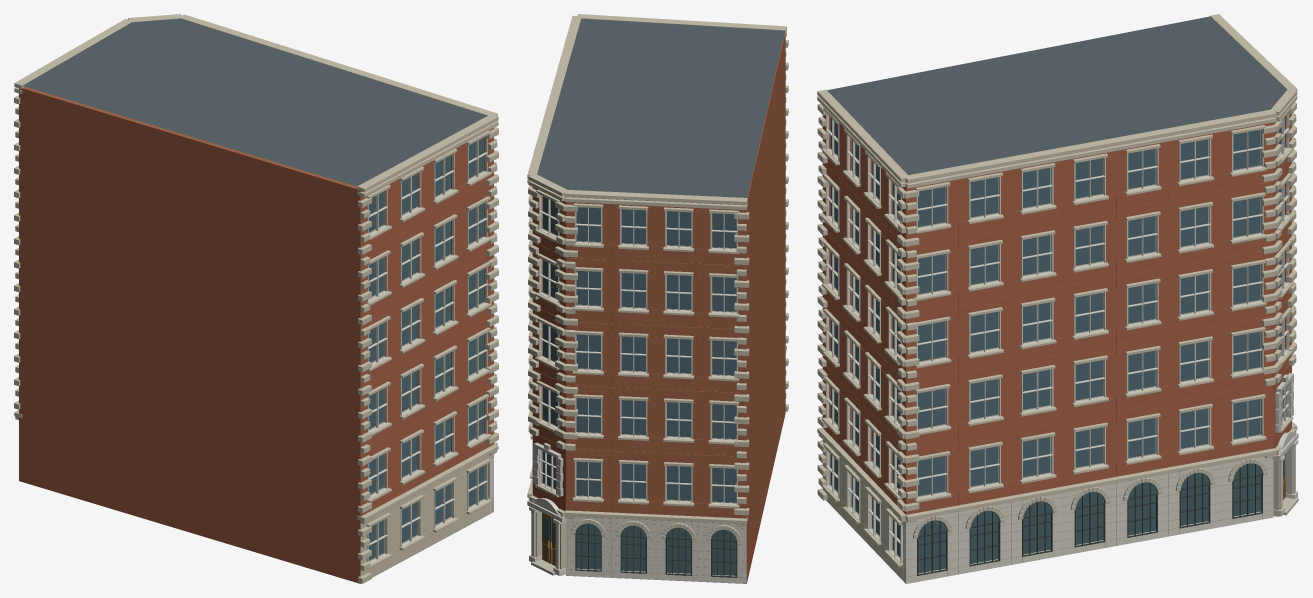
Rendered from 51l-exterior-f70de6a73c30.glb.
3 renders of one model, left to right at view 1: azimuth 30°, elevation 25°; view 2: azimuth 150°, elevation 25°; view 3: azimuth 270°, elevation 25°, orthographic. The views are drawn at different scales.
Visible parts, largest first — view 1: 51L.001; view 2: 51L.001; view 3: 51L.001.
Part boxes in pixels (box(x1,y1,x2,y2)): 51L.001: box(14, 14, 498, 583); 51L.001: box(527, 14, 788, 583); 51L.001: box(817, 14, 1298, 583).
Bounding box in the file's own units: 18.38 × 20.95 × 22.47.
